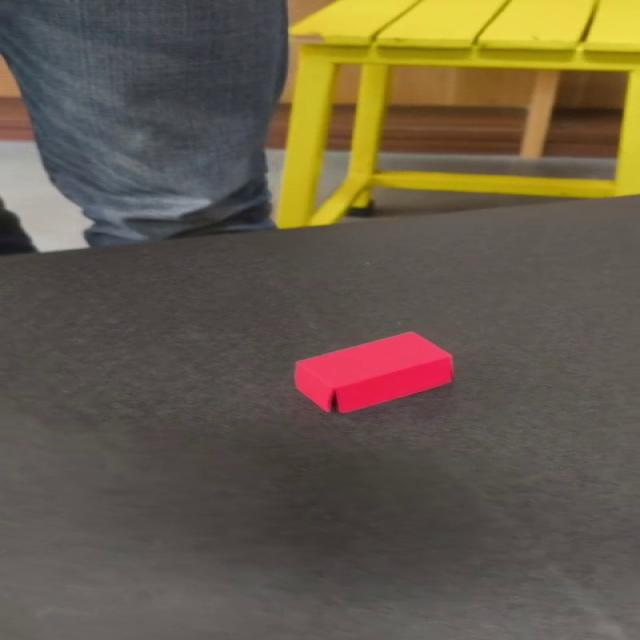red block: (292, 331, 455, 414)
